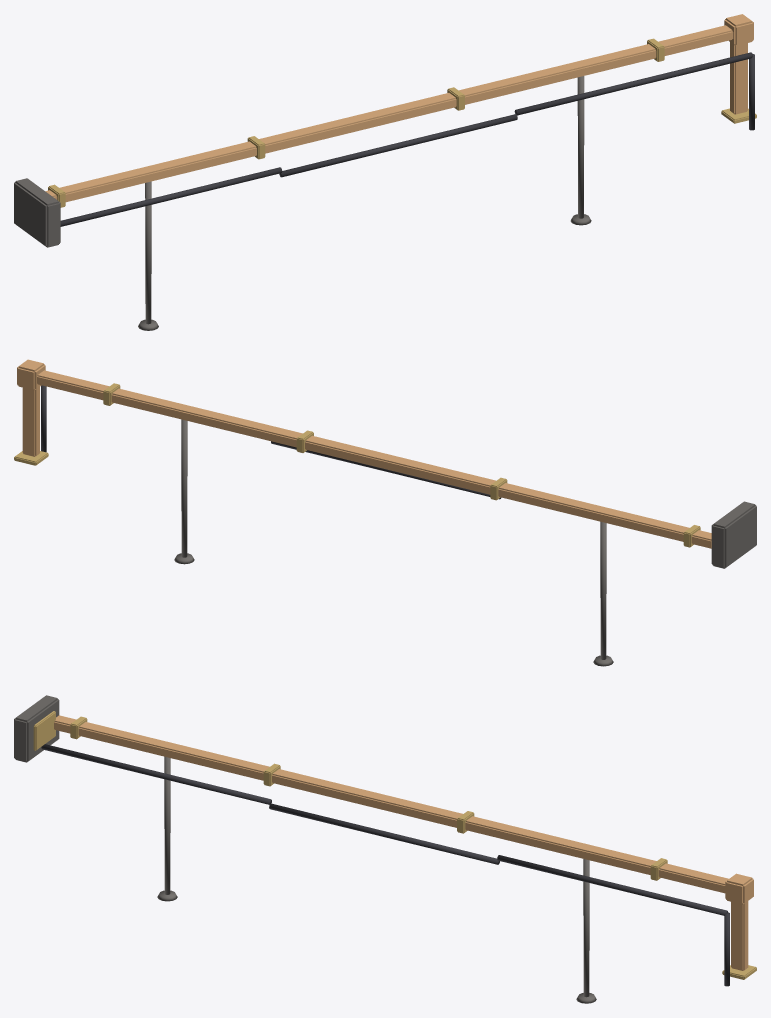
Rendered from magnetron_feed.glb.
The picture shows the model from 3 angles, top to bottom: view 1: azimuth 30°, elevation 25°; view 2: azimuth 150°, elevation 25°; view 3: azimuth 330°, elevation 25°; orthographic projection. The views are drawn at different scales.
Parts seen in each view (by area): view 1: WaveguideRun, JunctionBox, CableB, CableC, CableA, DropPipe, StrutWest, StrutEast, Elbow; view 2: WaveguideRun, JunctionBox, DropPipe, StrutEast, StrutWest, Elbow, CableB; view 3: WaveguideRun, JunctionBox, CableB, CableC, CableA, DropPipe, StrutWest, StrutEast, Elbow, JunctionPlate.
Boxes of the visible parts, x1,y1,x2,y2 form: WaveguideRun: [45, 25, 733, 202]; JunctionBox: [14, 178, 60, 247]; CableB: [279, 114, 517, 177]; CableC: [514, 52, 752, 115]; CableA: [60, 167, 282, 226]; DropPipe: [730, 42, 747, 114]; StrutWest: [145, 181, 151, 324]; StrutEast: [577, 76, 584, 218]; Elbow: [724, 14, 753, 45]; WaveguideRun: [37, 370, 711, 548]; JunctionBox: [711, 501, 756, 568]; DropPipe: [22, 387, 39, 456]; StrutEast: [181, 419, 187, 557]; StrutWest: [600, 521, 606, 659]; Elbow: [17, 359, 45, 390]; CableB: [271, 441, 501, 499]; WaveguideRun: [54, 715, 728, 893]; JunctionBox: [14, 695, 59, 762]; CableB: [269, 803, 499, 864]; CableC: [497, 855, 727, 915]; CableA: [41, 744, 271, 804]; DropPipe: [731, 901, 748, 970]; StrutWest: [164, 756, 170, 894]; StrutEast: [583, 859, 589, 997]; Elbow: [725, 873, 753, 904]; JunctionPlate: [33, 711, 55, 750].
Bounding box in the file's own units: 8.81 × 2 × 0.74.
